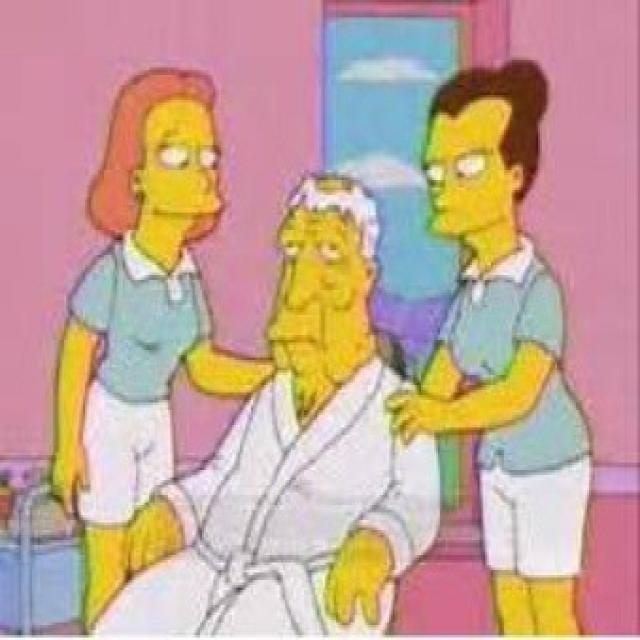Kent Brockman: (261, 171, 388, 389)
